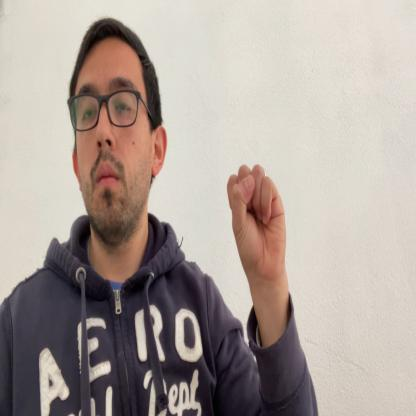S: (227, 165, 286, 281)
